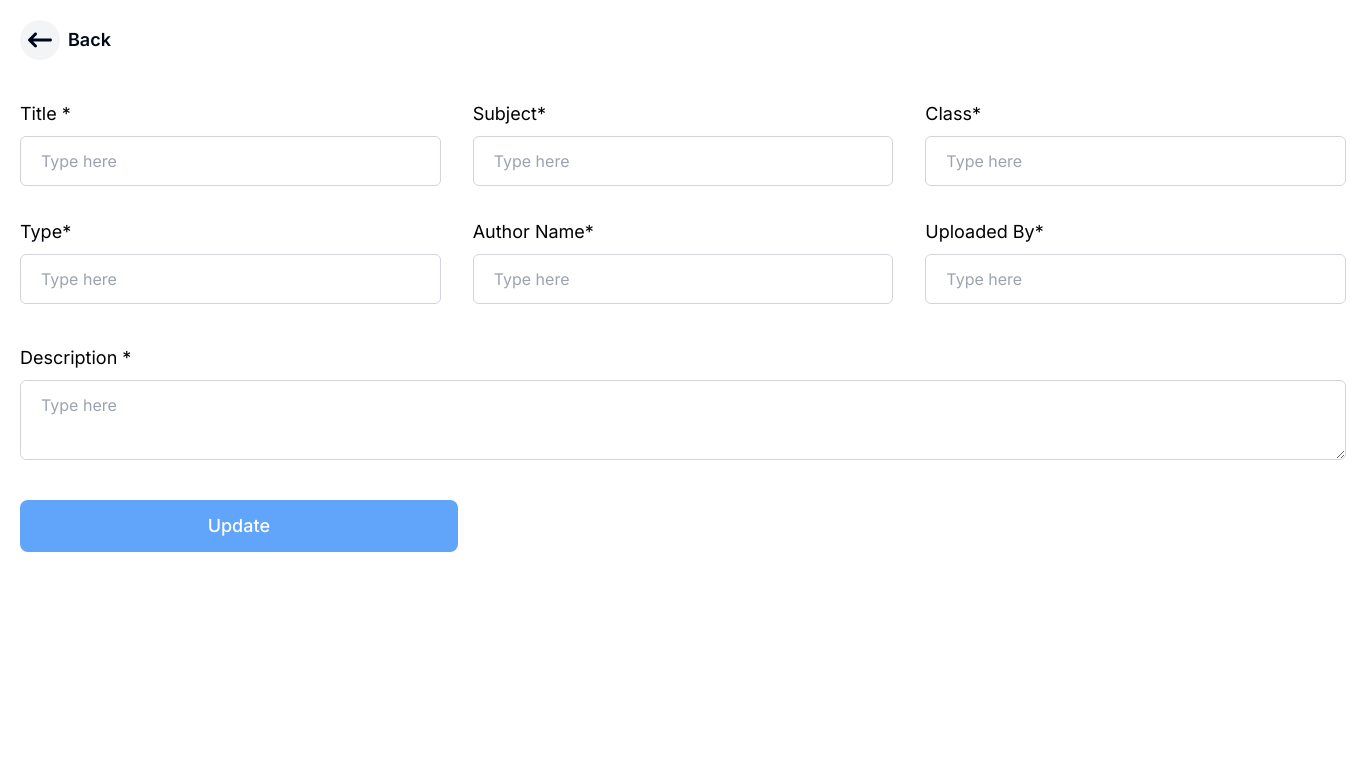
Test case: EditLibrary Component › displays success message and handles close modal action
Type "Updated Title" into the field labelled "Title *" at (230, 161), box [20,136,441,186]
Type "Updated Subject" into the field labelled "Subject*" at (683, 161), box [473,136,893,186]
Type "12" into the field labelled "Class*" at (1136, 161), box [925,136,1346,186]
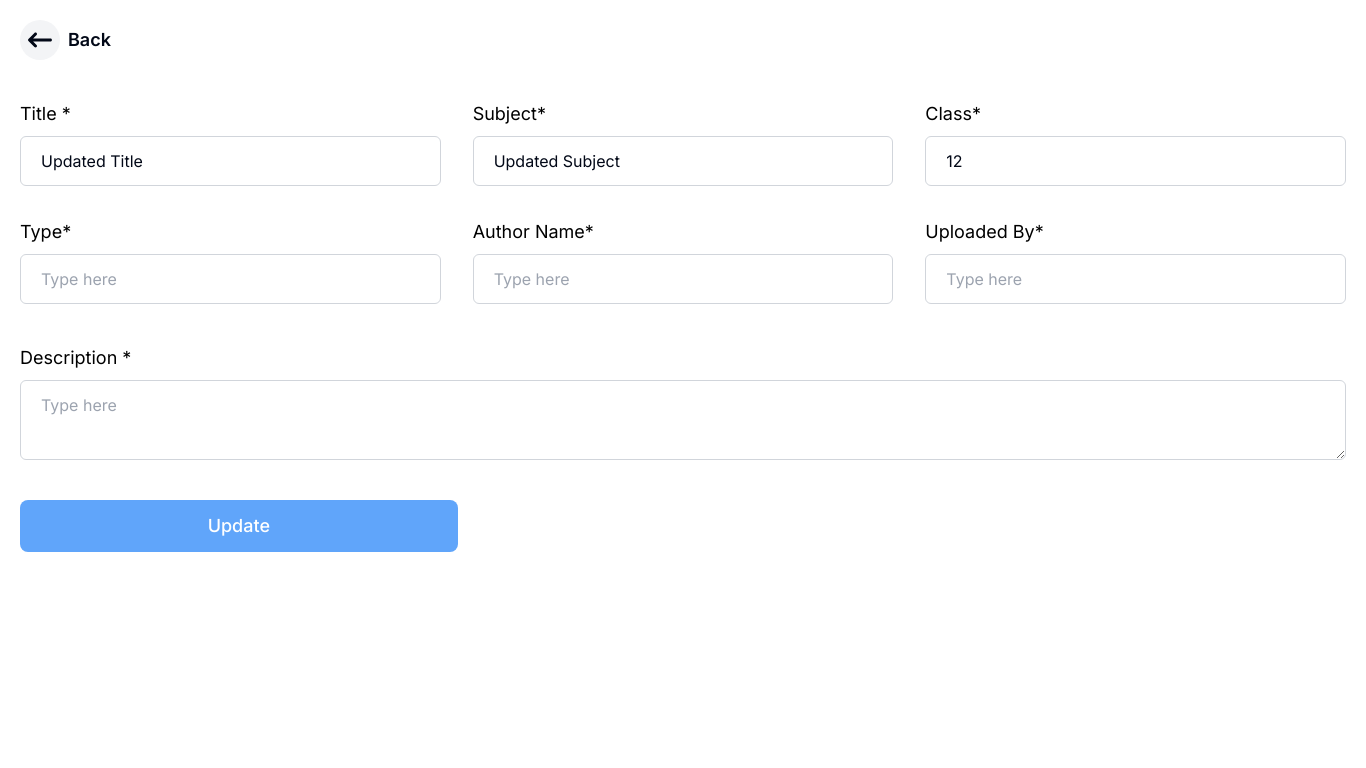
Type "Textbook" into the field labelled "Type*" at (230, 279), box [20,254,441,304]
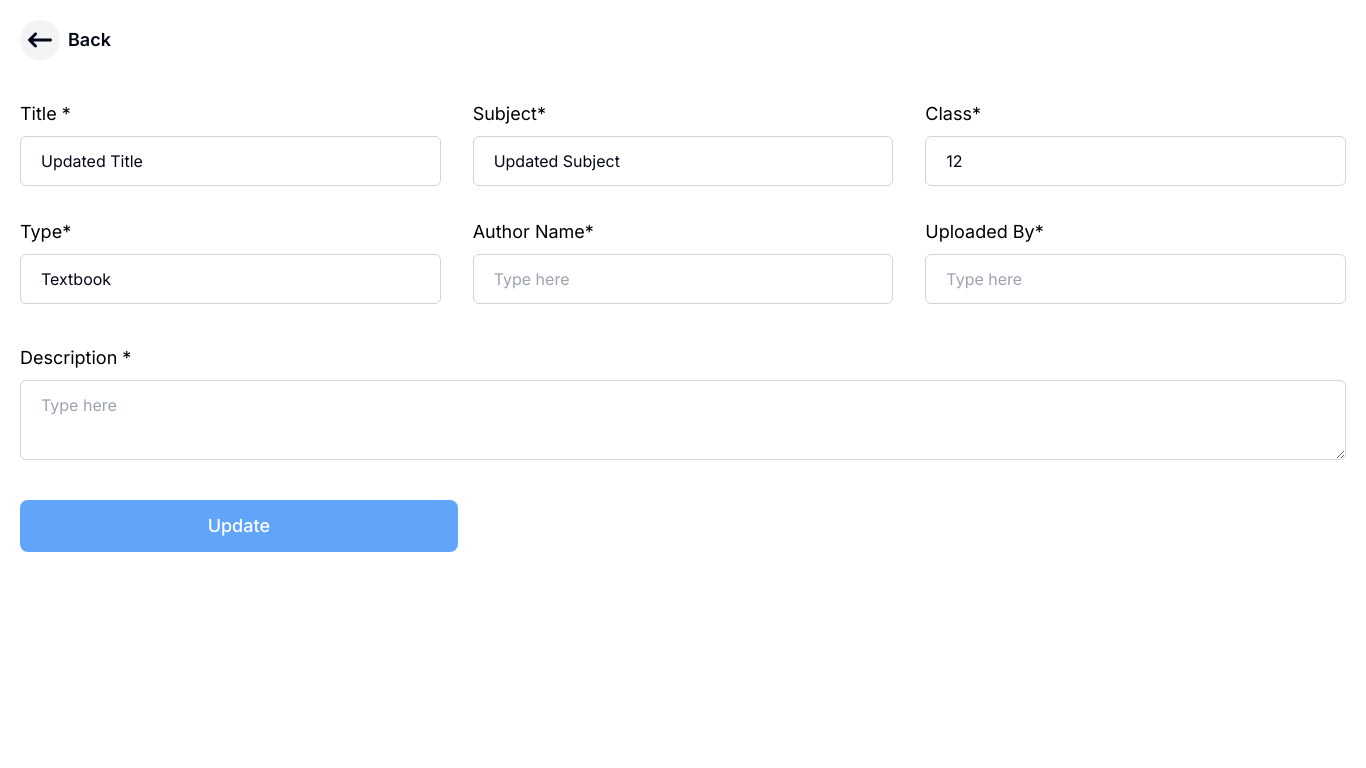
Type "Updated Author" into the field labelled "Author Name*" at (683, 279), box [473,254,893,304]
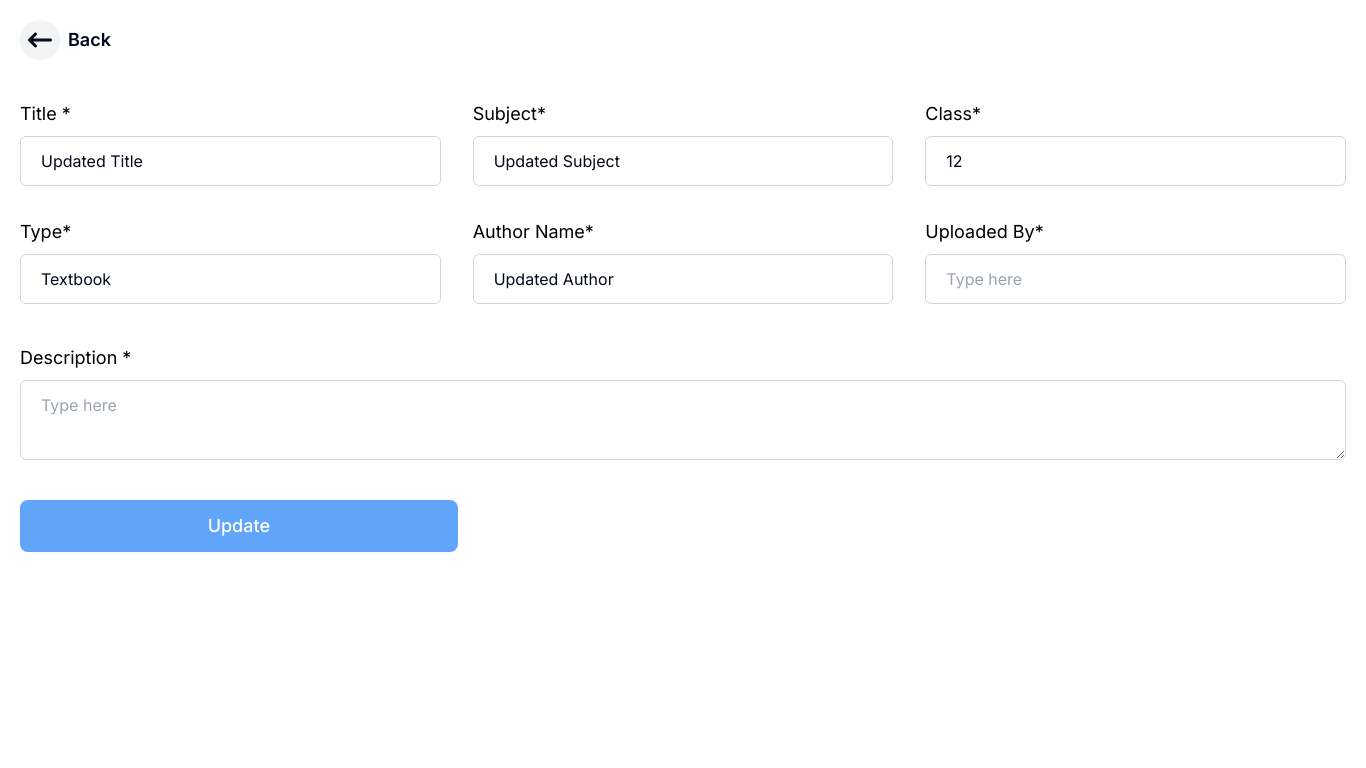
Type "Updated Uploader" into the field labelled "Uploaded By*" at (1136, 279), box [925,254,1346,304]
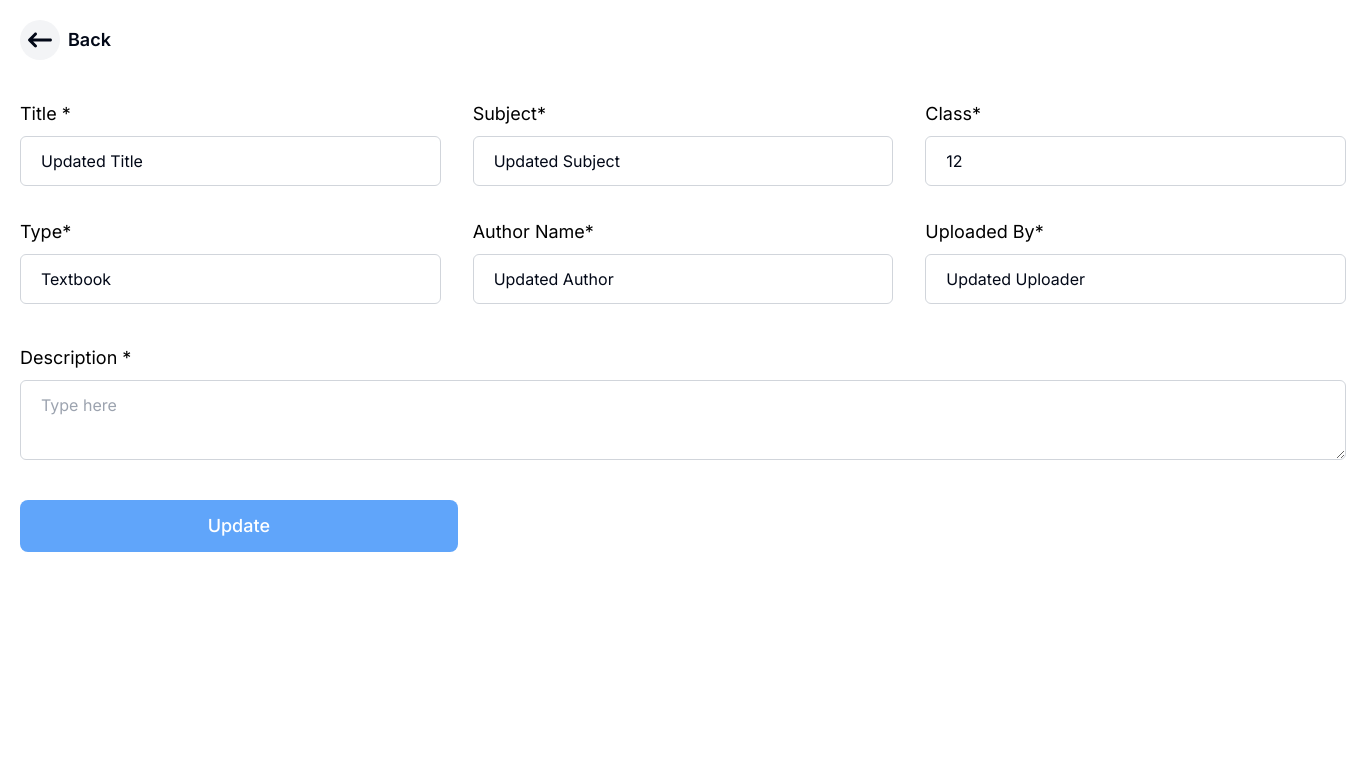
Type "Updated description" into the text box labelled "Description *" at (683, 420), box [20,380,1346,460]
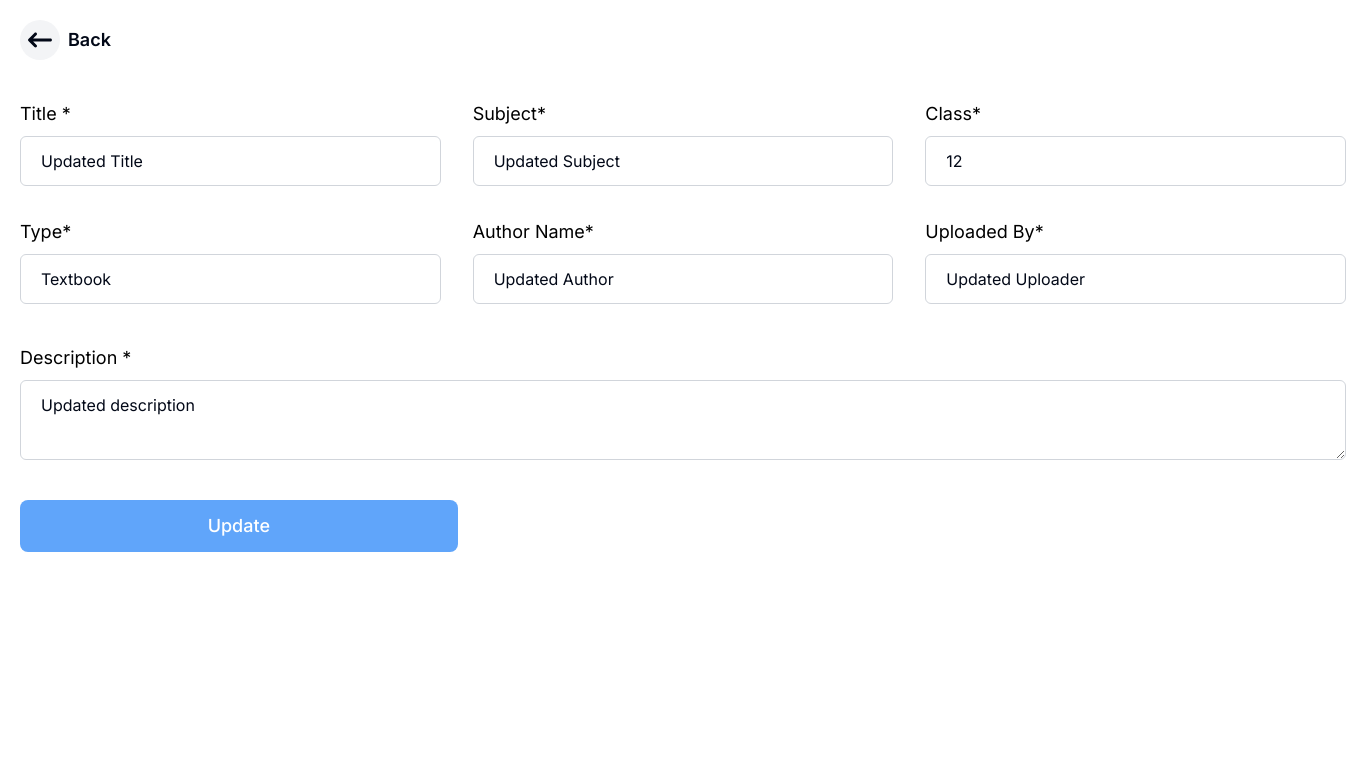
Click the button "Update" at (239, 526), box [20,500,458,552]
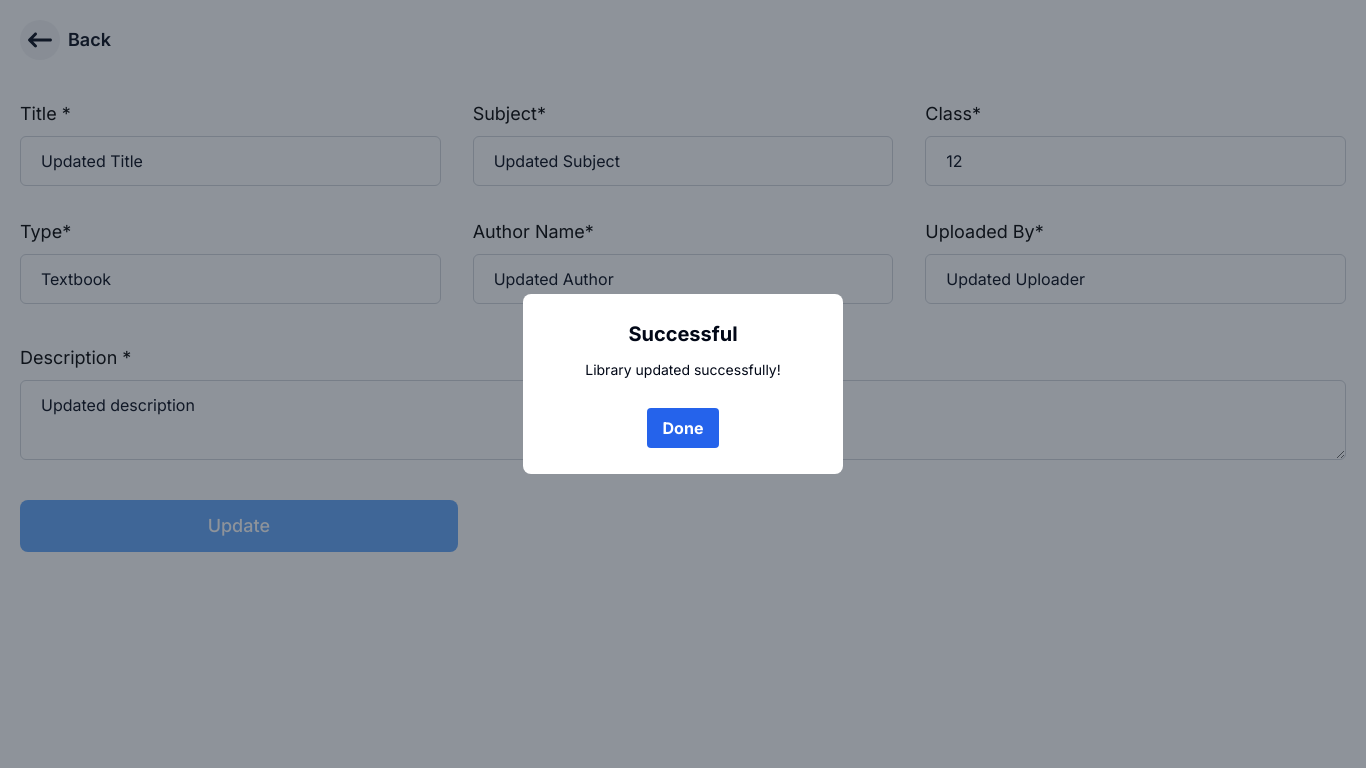
Check: the heading "Library updated successfully!" is shown, box [585,360,781,380]
